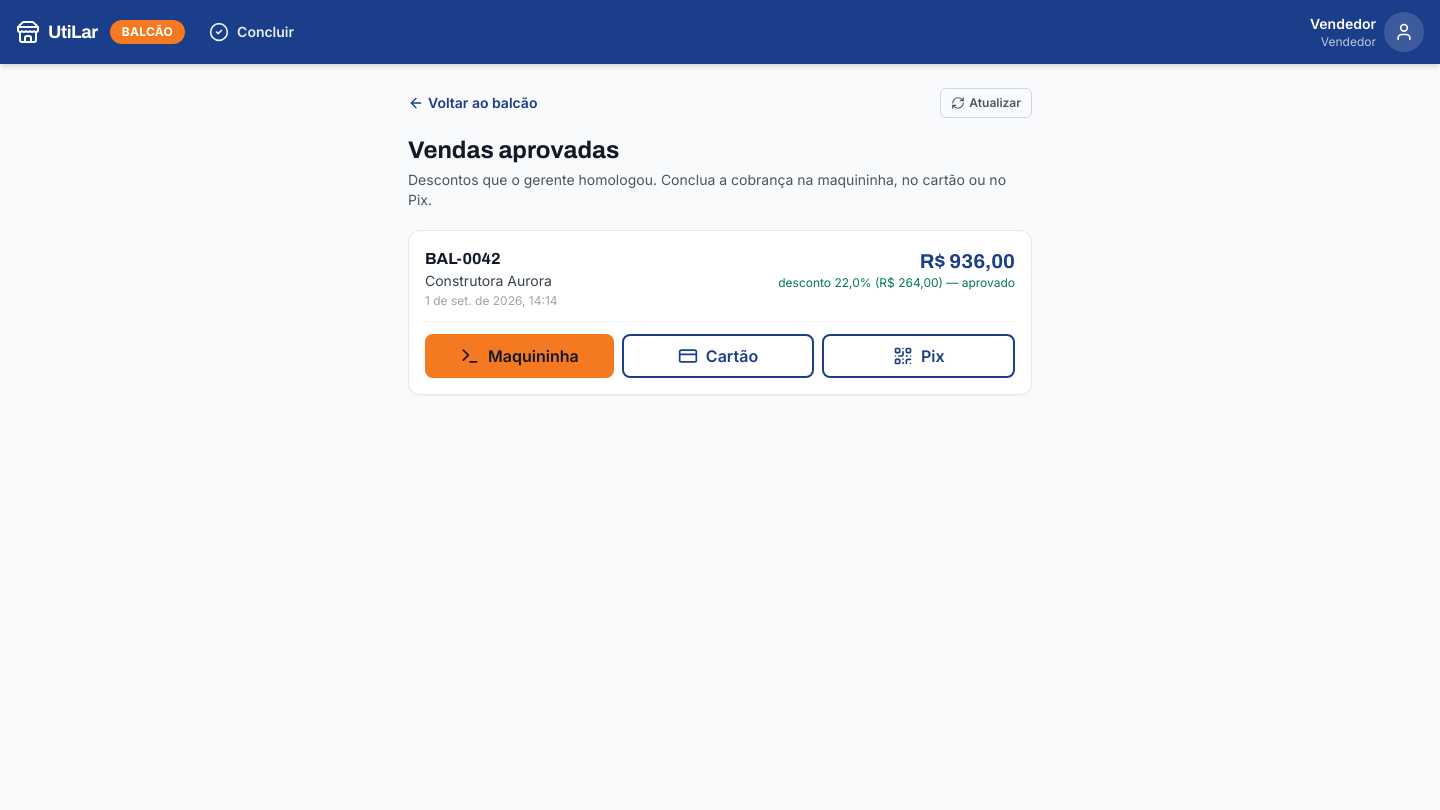
Scenario: BalcaoCompletionPage — conclui venda aprovada › cartão: mostra o formulário (CardPayment) e confirma pela venda aprovada
Expected: the text "BAL-0042" is shown, top-left (425, 250), bottom-right (501, 267)
Click the button "Cartão": (718, 356) top-left (622, 334), bottom-right (814, 378)
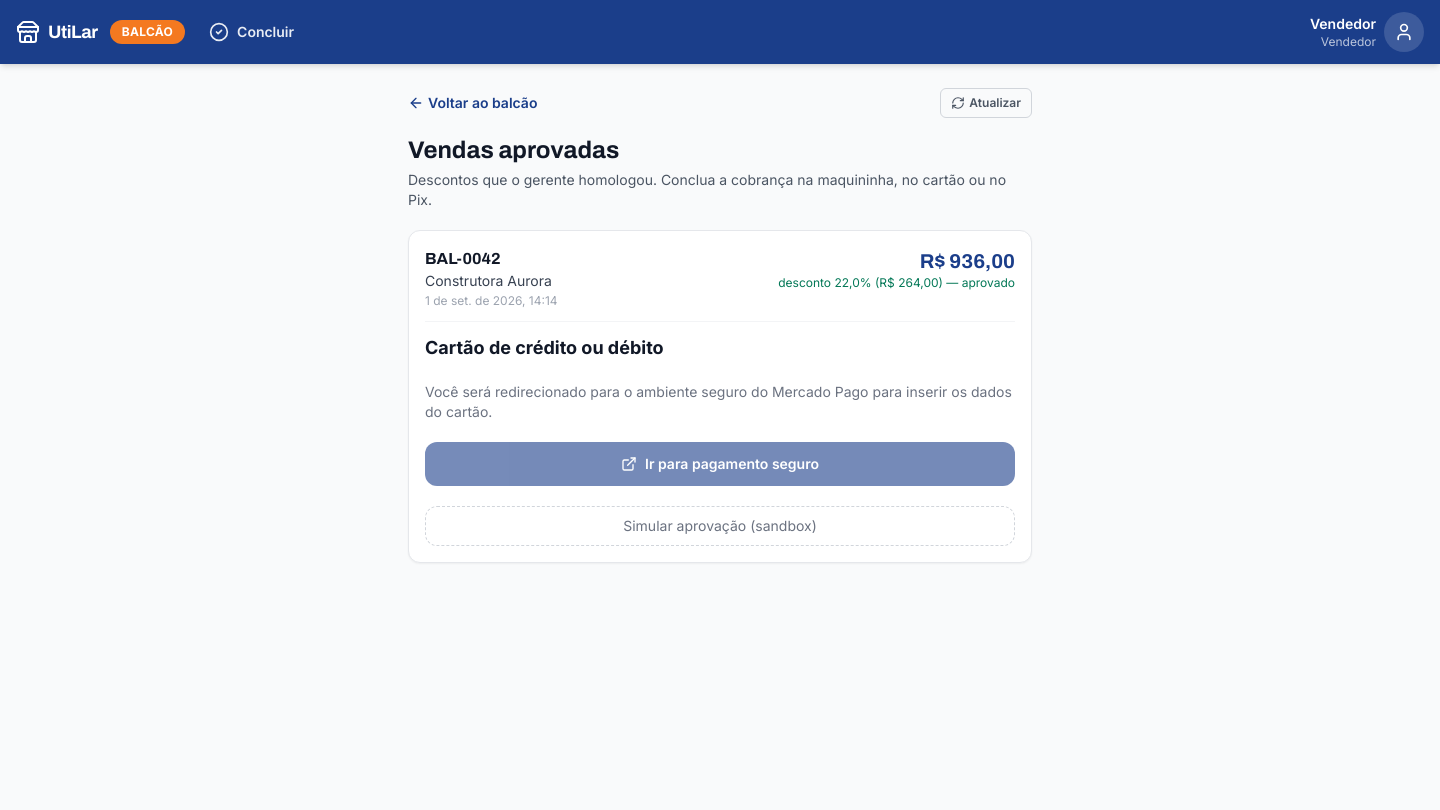
Result: the button "Simular aprovação (sandbox)" is shown
Click the button "Simular aprovação (sandbox)": (720, 526) top-left (425, 506), bottom-right (1015, 546)
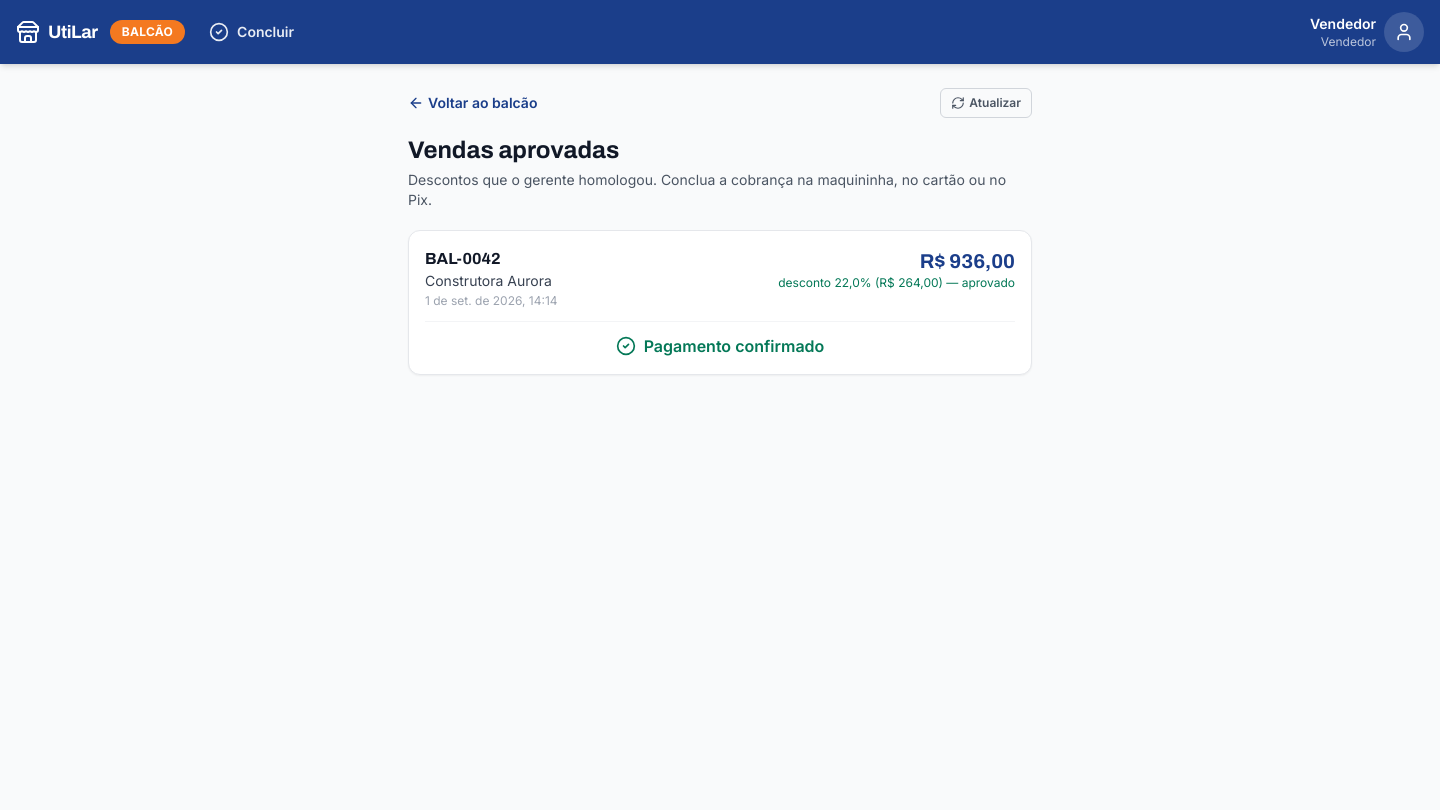
Result: the text "Pagamento confirmado" is shown at top-left (616, 334), bottom-right (824, 358)
